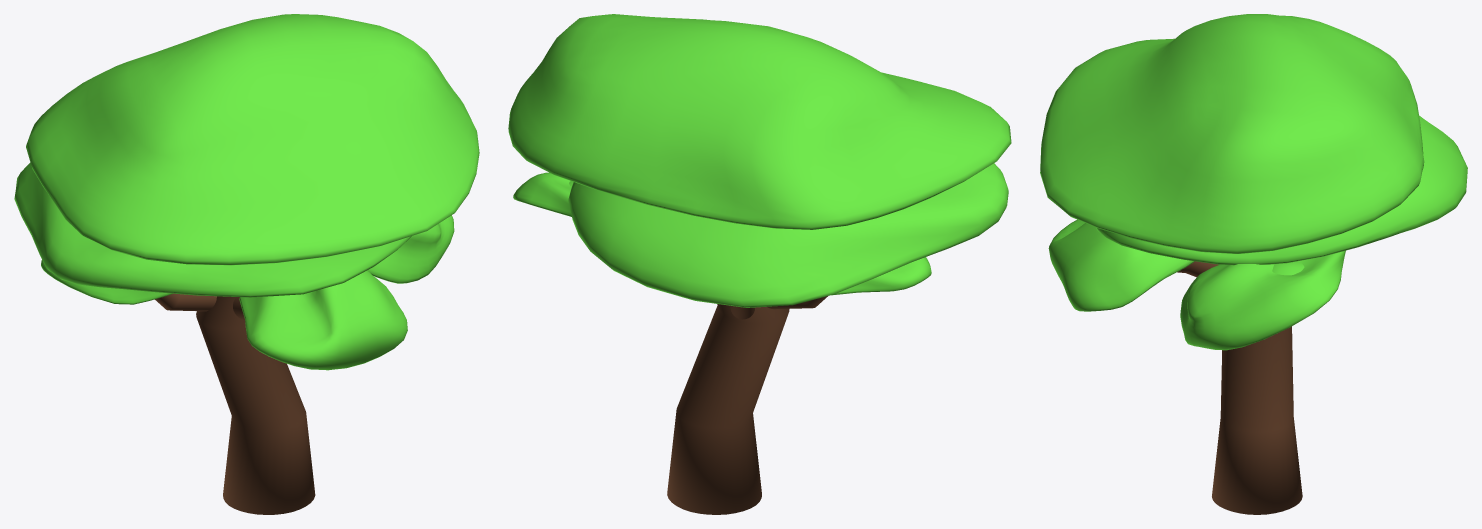
Rendered from tree5.glb.
3 views of the same model, side by side, from view 1: azimuth 30°, elevation 25°; view 2: azimuth 150°, elevation 25°; view 3: azimuth 270°, elevation 25° (orthographic). The views are drawn at different scales.
Parts seen in each view (by area): view 1: tree5; view 2: tree5; view 3: tree5.
Boxes of the visible parts, x1,y1,x2,y2 form: tree5: [14, 14, 479, 514]; tree5: [508, 14, 1011, 514]; tree5: [1040, 14, 1467, 514].
Size of the model in its own units: 4.48 by 4.56 by 3.91.
